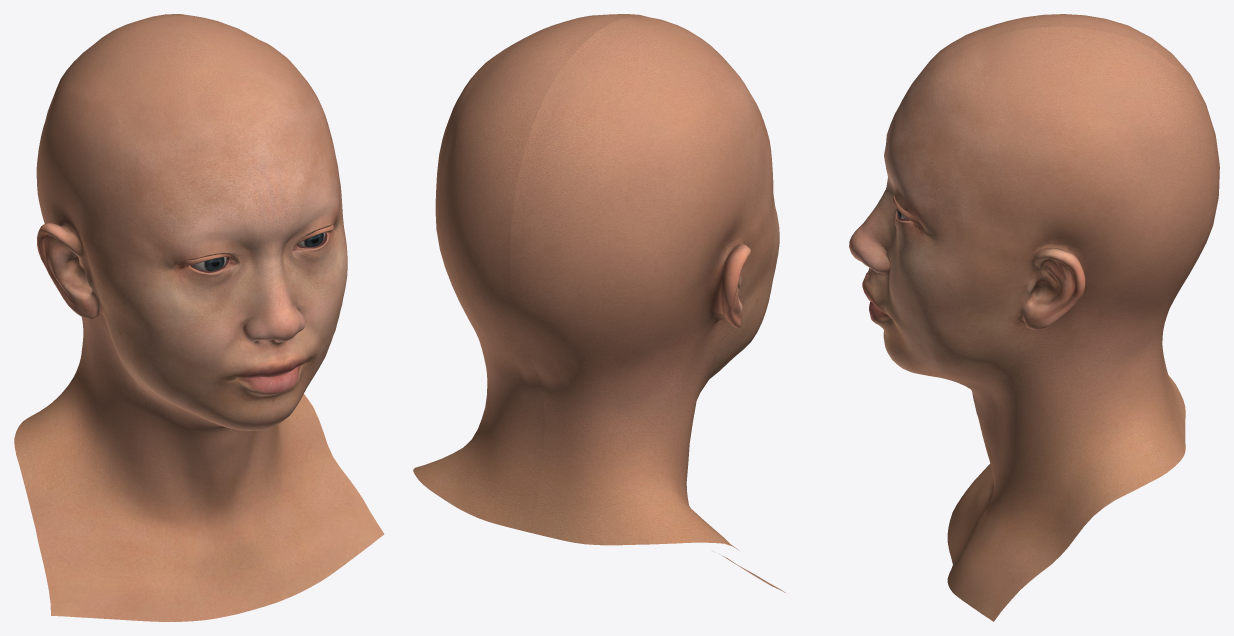
Rendered from head_1010.glb.
The picture shows the model from 3 angles, left to right: view 1: azimuth 30°, elevation 25°; view 2: azimuth 150°, elevation 25°; view 3: azimuth 270°, elevation 25°; orthographic projection. The views are drawn at different scales.
Parts seen in each view (by area): view 1: head; view 2: head; view 3: head.
Part boxes in pixels (<box>): head: <box>14,14,384,621</box>; head: <box>413,14,786,593</box>; head: <box>849,14,1219,621</box>.
Size of the model in its own units: 0.2297 by 0.3574 by 0.2224.
3 materials, 2 textured.
